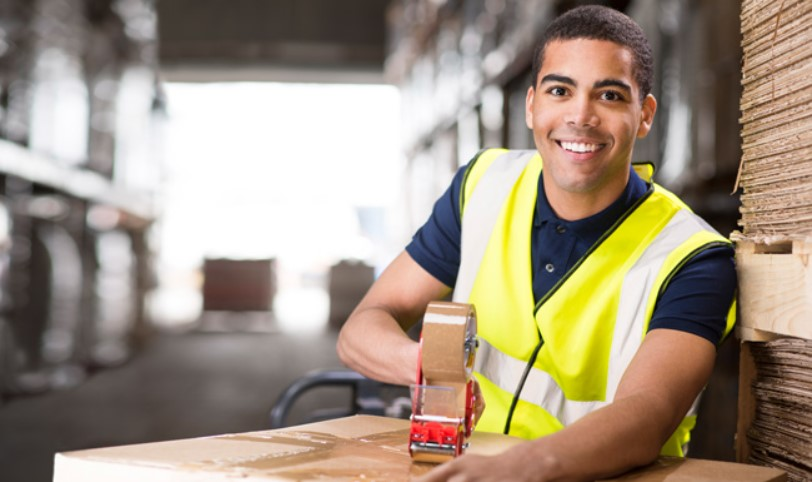worker: (452, 8, 733, 467)
